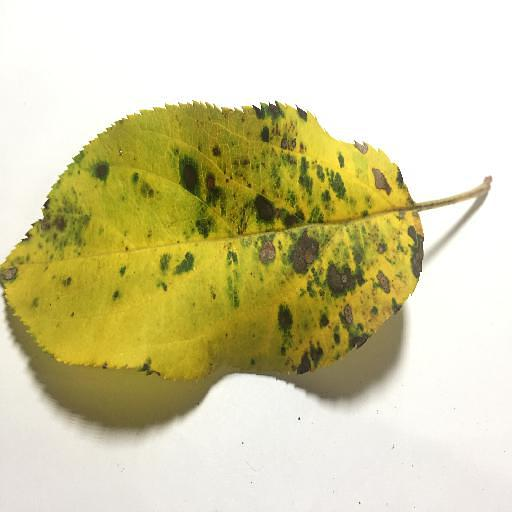Brown_Spot: (258, 118, 300, 156), (22, 204, 70, 237), (326, 259, 352, 296), (250, 193, 275, 223), (291, 232, 312, 266), (374, 171, 392, 195), (264, 241, 278, 264), (377, 266, 391, 289), (2, 266, 16, 283), (206, 174, 217, 193), (345, 305, 354, 324), (356, 142, 369, 155)
